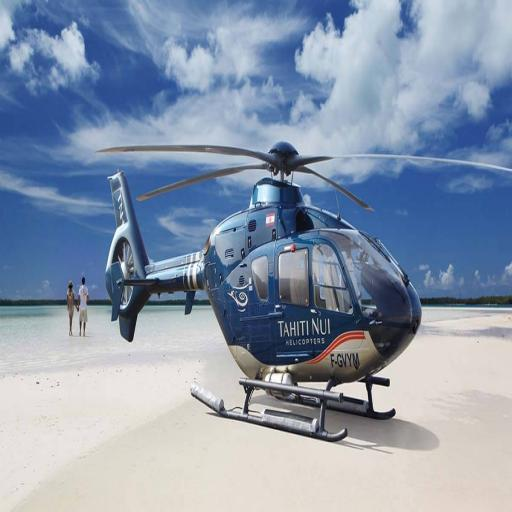helicopter: (89, 91, 449, 463)
